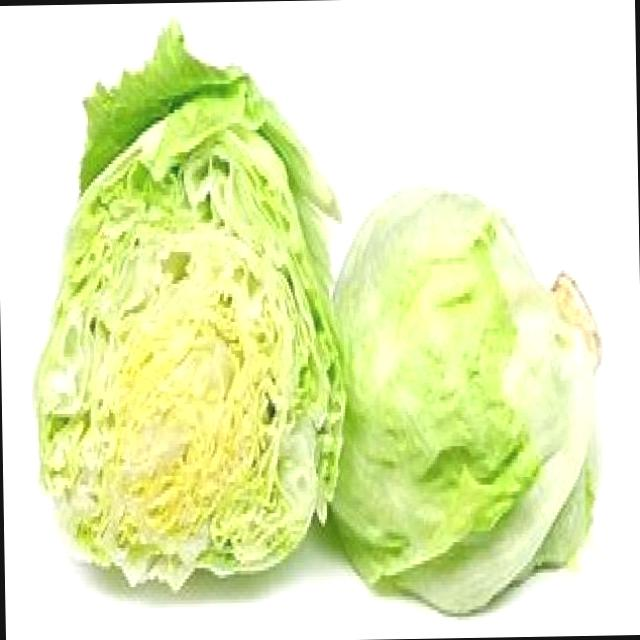cabbage: (28, 89, 334, 605), (302, 184, 614, 613)
